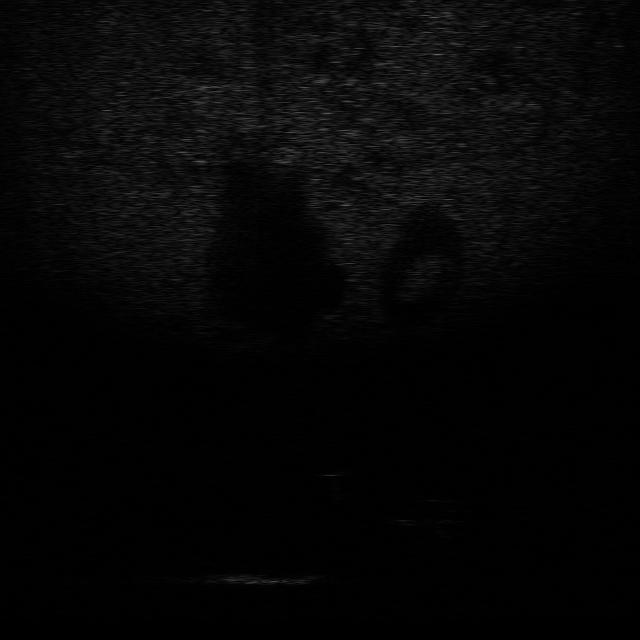ball: (309, 450, 355, 479)
metal bucket: (198, 560, 332, 588)
tyre: (382, 492, 460, 530)
